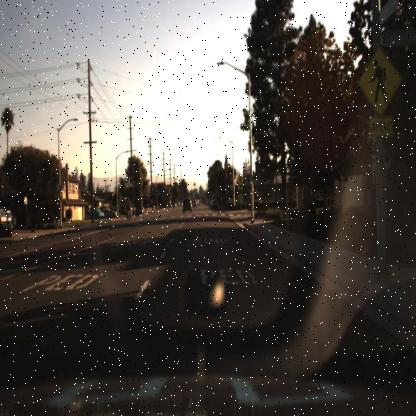car: (80, 206, 104, 224), (179, 193, 195, 217), (83, 207, 105, 219), (102, 204, 118, 220), (133, 203, 148, 219), (134, 201, 146, 217)
